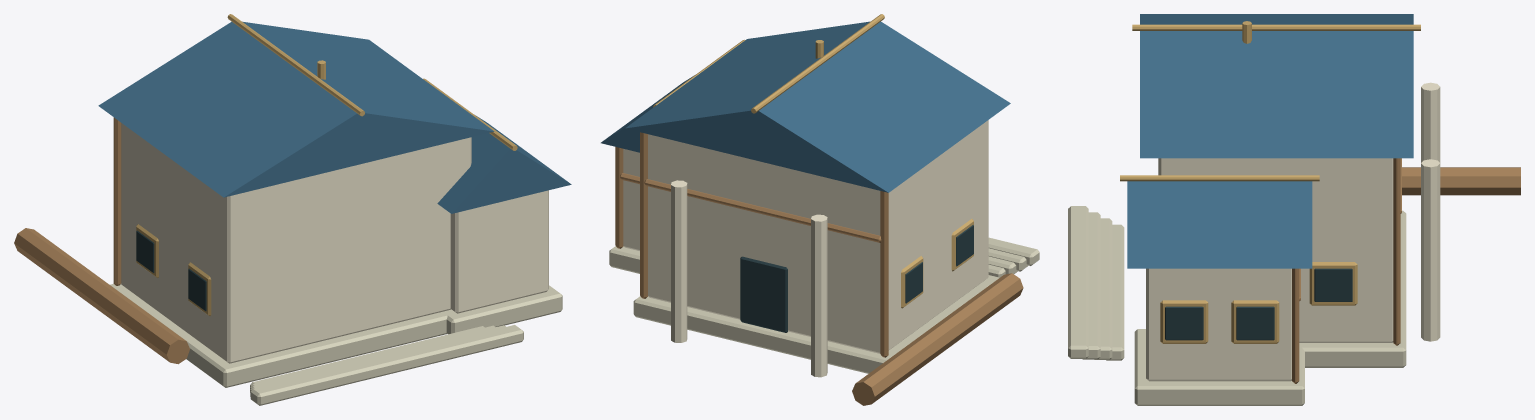
Rendered from level_29.glb.
The picture shows the model from 3 angles, left to right: view 1: azimuth 30°, elevation 25°; view 2: azimuth 150°, elevation 25°; view 3: azimuth 270°, elevation 25°; orthographic projection. The views are drawn at different scales.
Visible parts, largest first — view 1: timber_yard — level 29; view 2: timber_yard — level 29; view 3: timber_yard — level 29.
Part boxes in pixels (x1,y1,x2,y2): timber_yard — level 29: [14, 14, 571, 405]; timber_yard — level 29: [601, 14, 1039, 405]; timber_yard — level 29: [1068, 14, 1520, 405].
Bounding box in the file's own units: 6.43 × 4.21 × 6.12.
